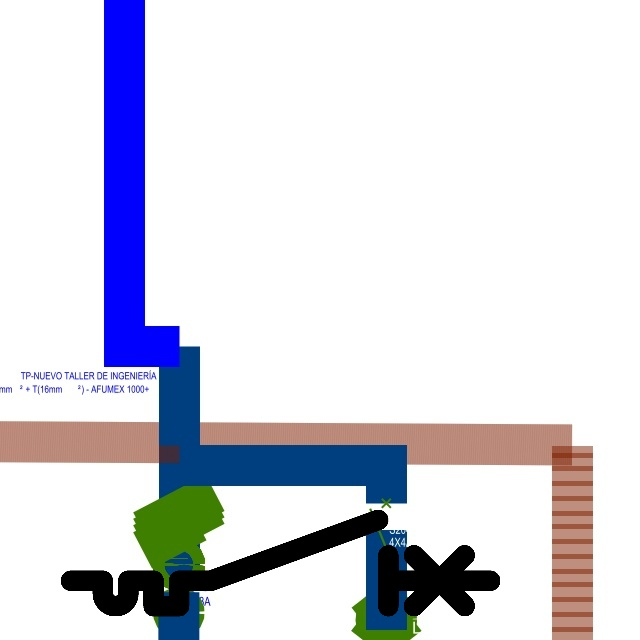interruptor_termomagnetico: (60, 509, 500, 617)
